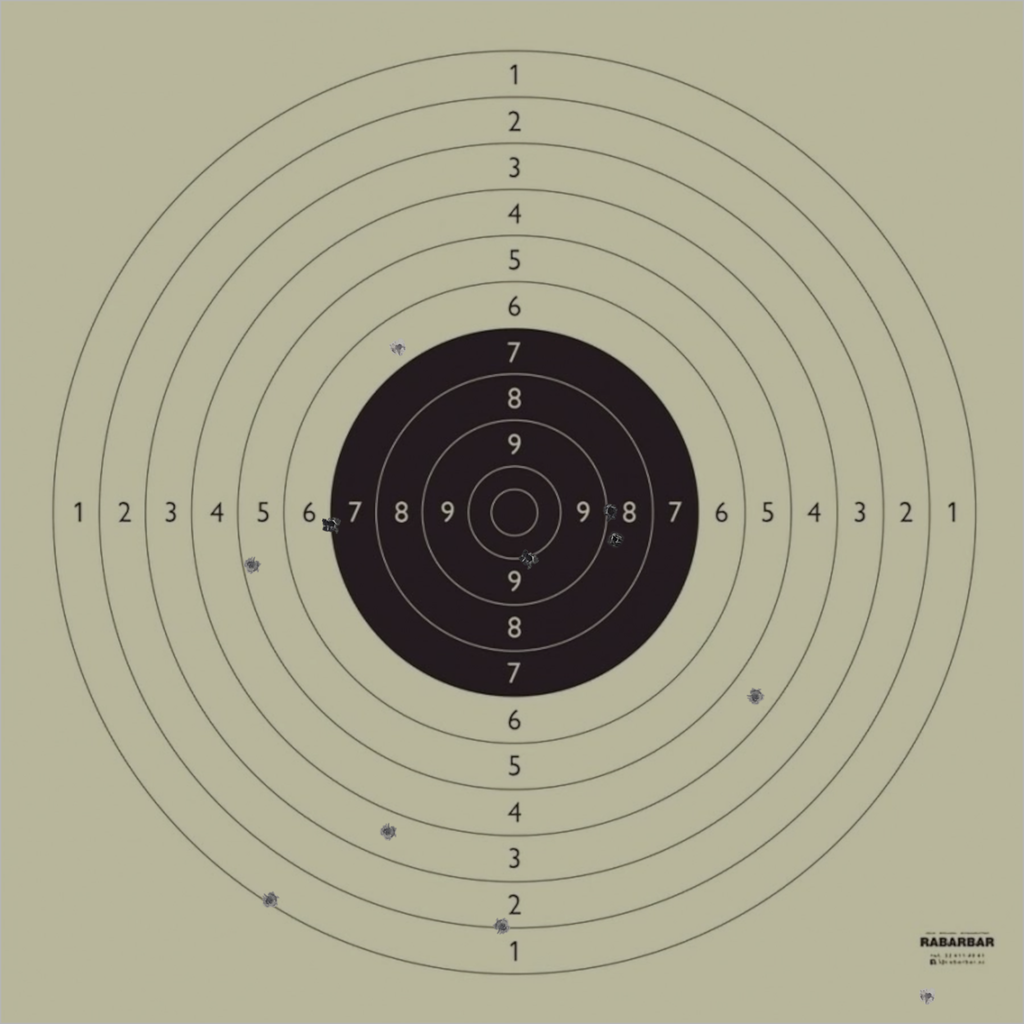0 punktow: (919, 987, 937, 1005)
1 punkt: (260, 891, 279, 910)
10 punktow: (519, 549, 538, 567)
2 punkty: (493, 917, 512, 936)
3 punkty: (378, 822, 397, 841)
4 punkty: (746, 688, 765, 706)
5 punktow: (242, 556, 261, 574)
6 punktow: (390, 338, 408, 357)
7 punktow: (322, 515, 340, 533)
8 punktow: (606, 530, 624, 548)
9 punktow: (601, 502, 620, 521)
